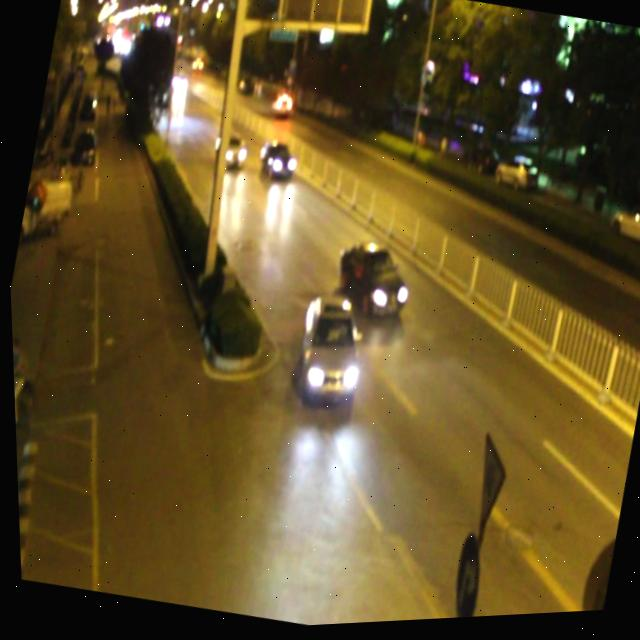car: (284, 289, 371, 412), (324, 230, 415, 330), (251, 139, 299, 189), (209, 132, 249, 176), (266, 87, 296, 124)
